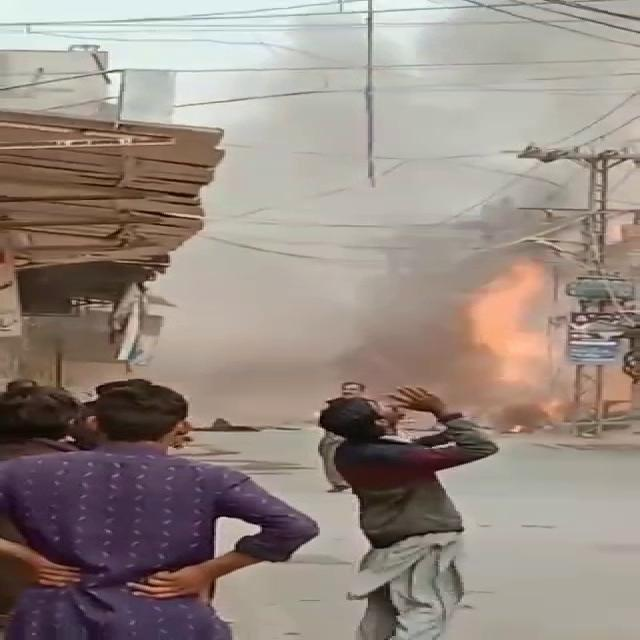Fire: (468, 256, 552, 391)
Smoke: (150, 18, 640, 425)
